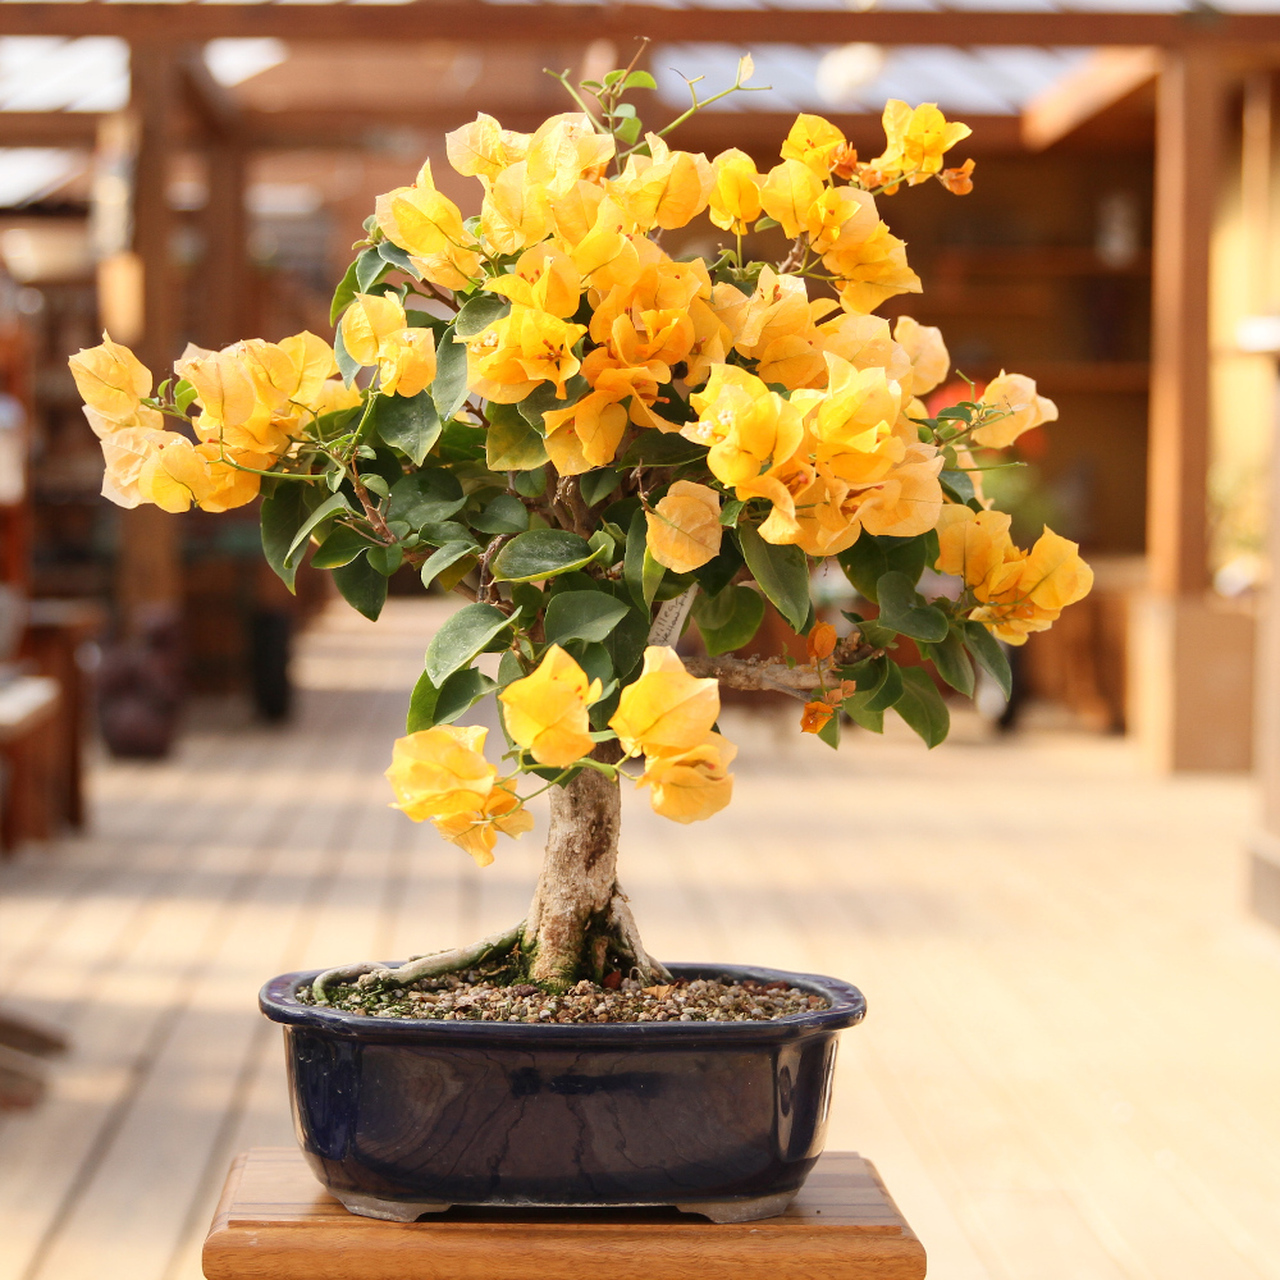bougainvillea: (617, 658, 719, 770), (502, 653, 593, 774), (392, 727, 491, 829), (692, 377, 789, 481), (513, 315, 587, 389), (372, 324, 435, 392), (463, 309, 520, 382)
